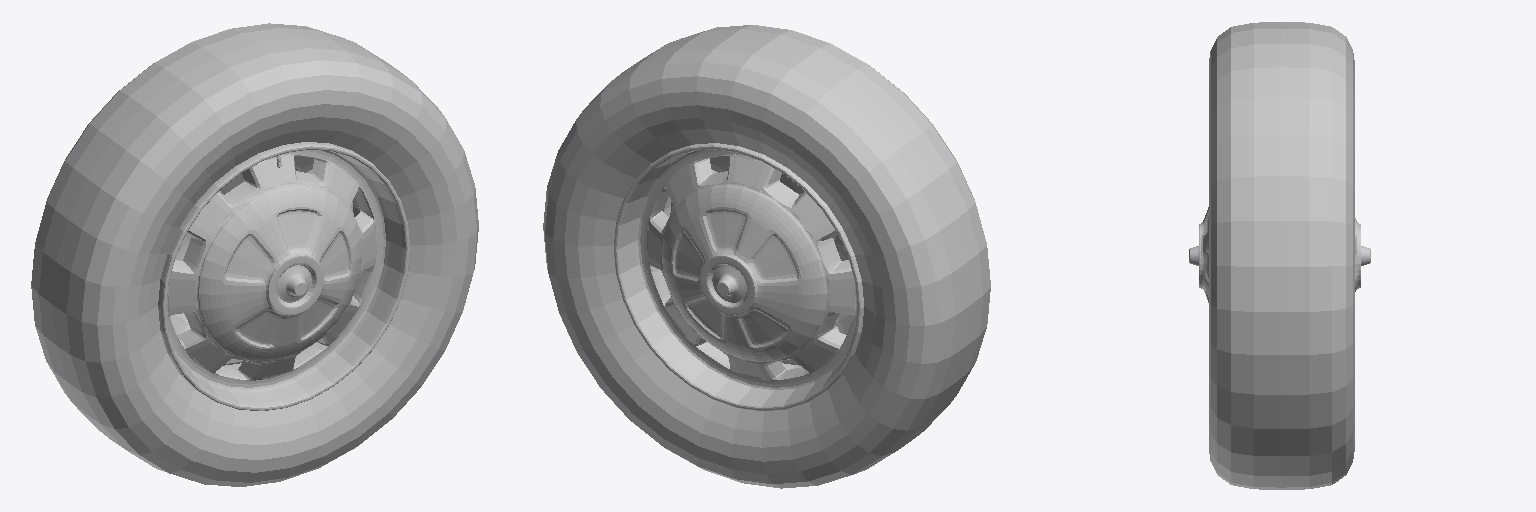
The model's file is PruebaUnaRueda.obj.
3 views of the same model, side by side, from view 1: azimuth 30°, elevation 25°; view 2: azimuth 150°, elevation 25°; view 3: azimuth 270°, elevation 25° (orthographic).
Parts seen in each view (by area): view 1: Object_35; view 2: Object_35; view 3: Object_35.
Boxes of the visible parts, x1=… form: Object_35: x1=31, y1=23, x2=478, y2=486; Object_35: x1=543, y1=25, x2=990, y2=488; Object_35: x1=1189, y1=22, x2=1370, y2=489.
Bounding box in the file's own units: 0.3706 × 0.3706 × 0.1434.